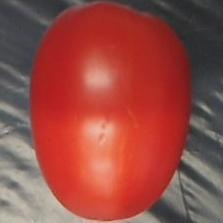unripe: (25, 0, 195, 223)
